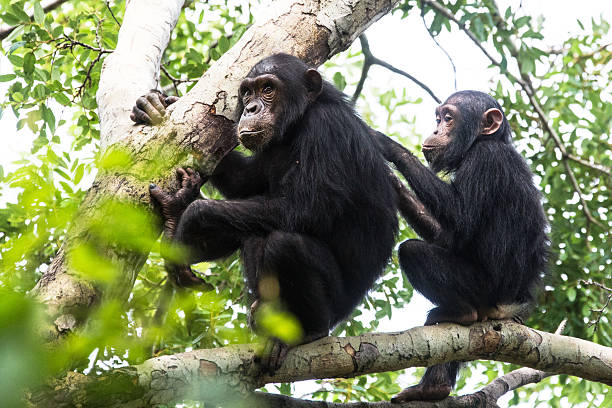chimpanzee: (216, 47, 333, 166), (413, 72, 509, 174)
